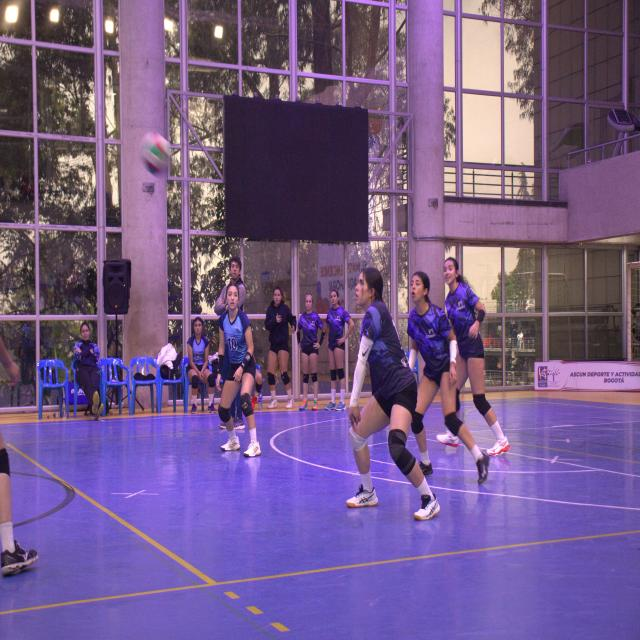volleyball: (141, 128, 173, 176)
